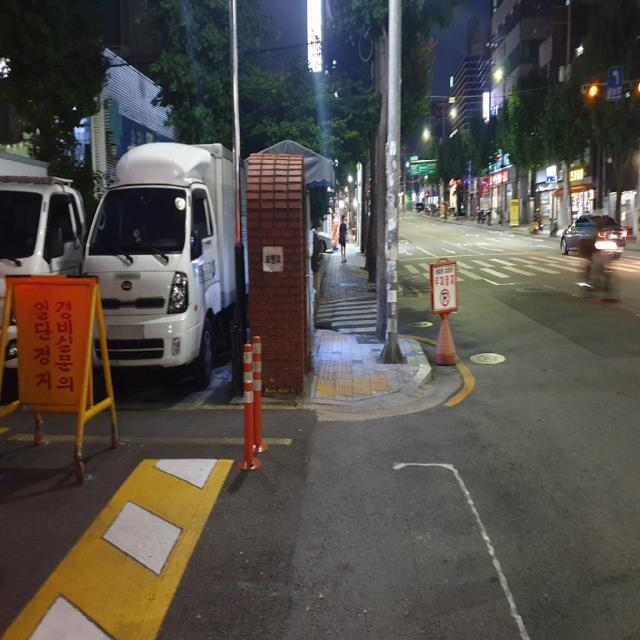횡단보도: (452, 254, 587, 277), (315, 299, 378, 333)
